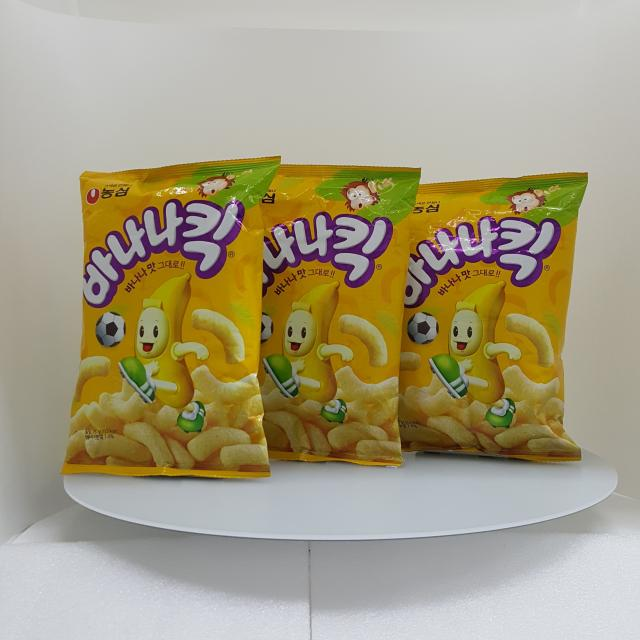-75G: (60, 156, 282, 480), (392, 173, 589, 463), (236, 165, 423, 469)
